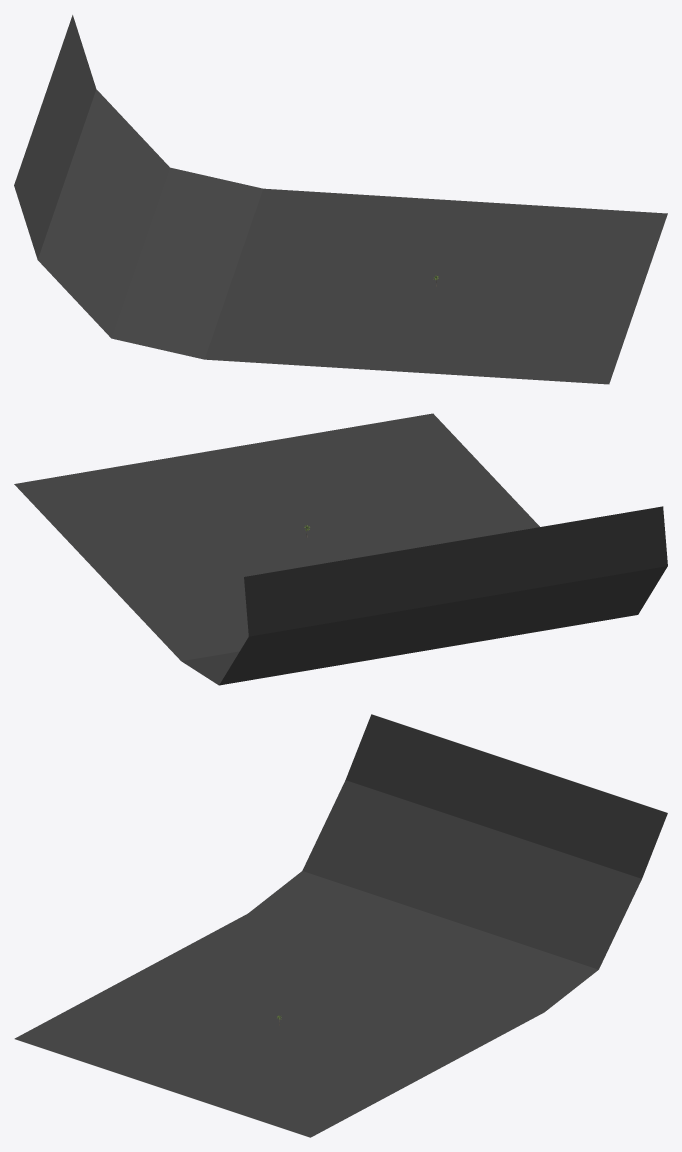
File: tree.obj
3 views of the same model, one above another, from view 1: azimuth 30°, elevation 25°; view 2: azimuth 150°, elevation 25°; view 3: azimuth 270°, elevation 25° (orthographic). The views are drawn at different scales.
Parts seen in each view (by area): view 1: Plane_Plane.001; view 2: Plane_Plane.001; view 3: Plane_Plane.001.
Part boxes in pixels (left/top/right/bottom): Plane_Plane.001: left=14, top=15, right=667, bottom=384; Plane_Plane.001: left=14, top=413, right=667, bottom=685; Plane_Plane.001: left=14, top=714, right=667, bottom=1137.
Bounding box in the file's own units: 1465 × 350 × 1446.
